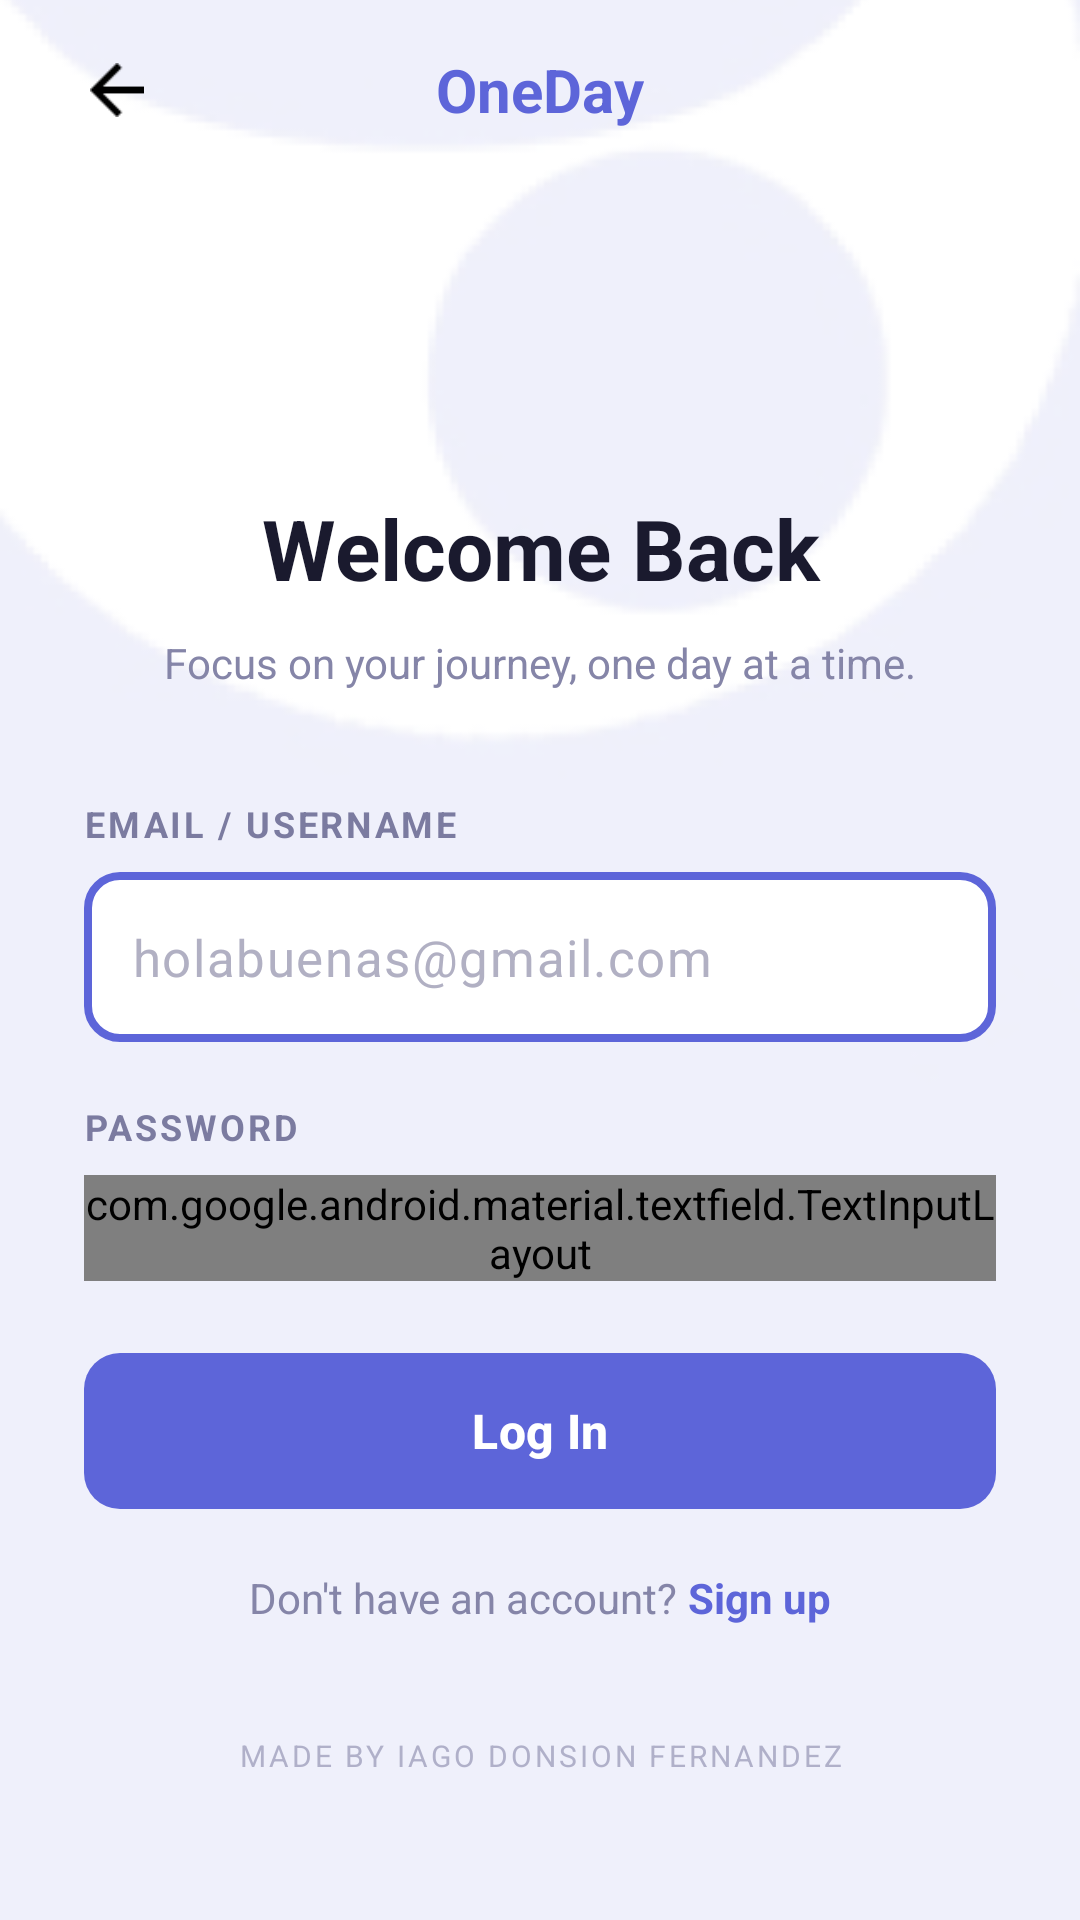

Where to tap for icons on this 1080px×1920px app screen, as (x,y):
Back: (117,90)
